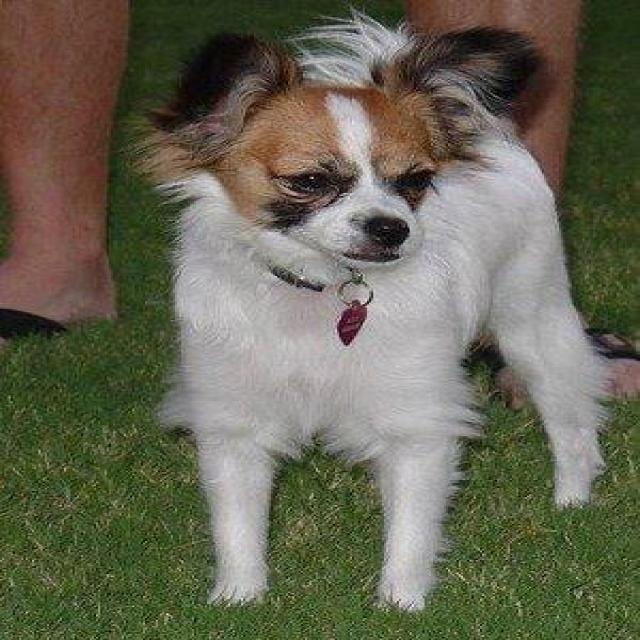papillon: (124, 14, 614, 617)
